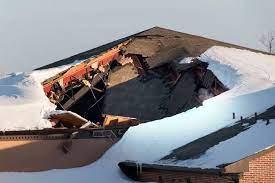sagging_roof: (10, 29, 233, 129)
